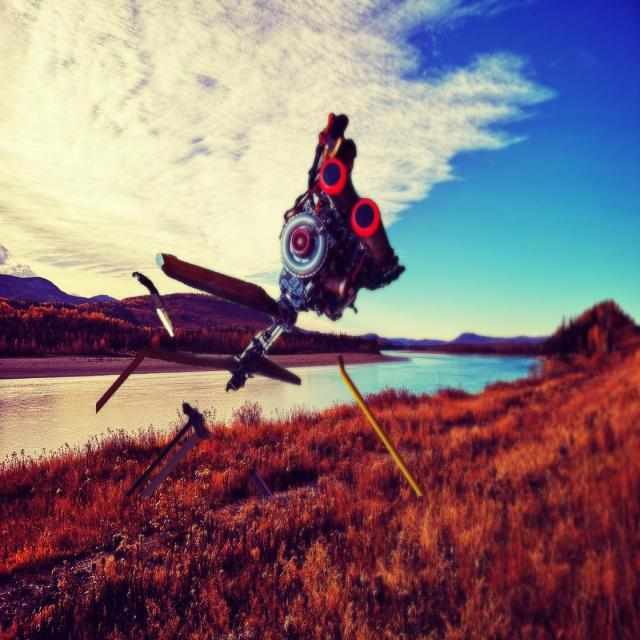airplane: (95, 110, 422, 500)
